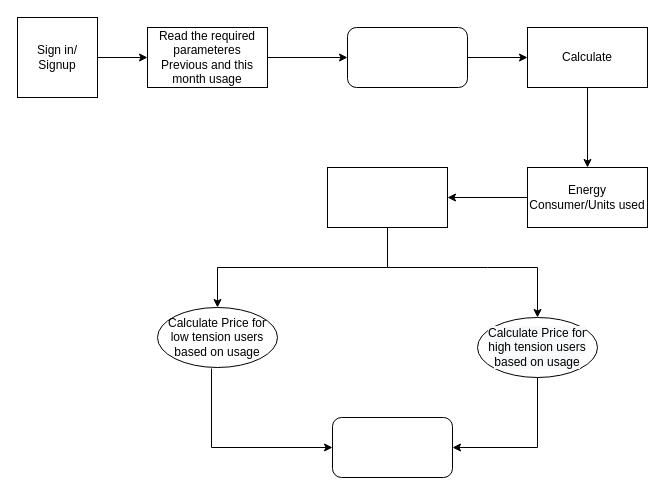
This 665x495 diagram has some shape labels left out. The shapes that lost their labels are listed below. From the top down, each one's box as (x1, y1, x2, y2) in pixels, then its label:
(346, 26, 468, 88): Read user details Name, consumer number&type
(326, 166, 448, 228): Choice Low tension/ High Tension
(332, 416, 452, 478): Display Bill Details
